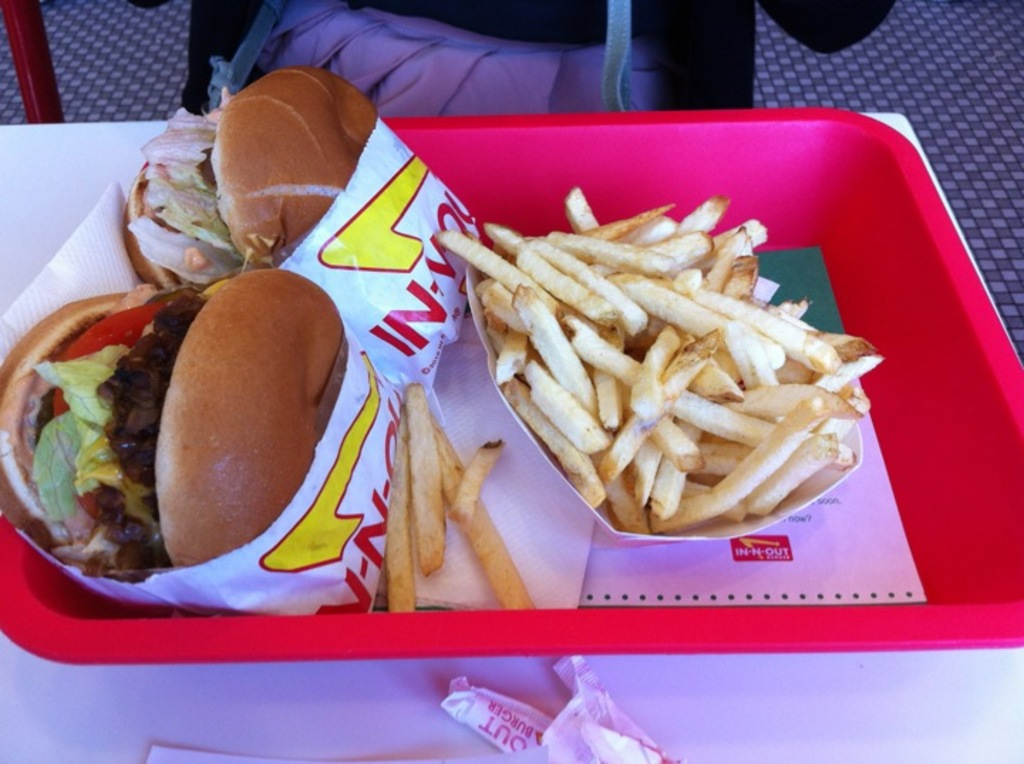French fries: (450, 177, 898, 553), (376, 375, 540, 613)
